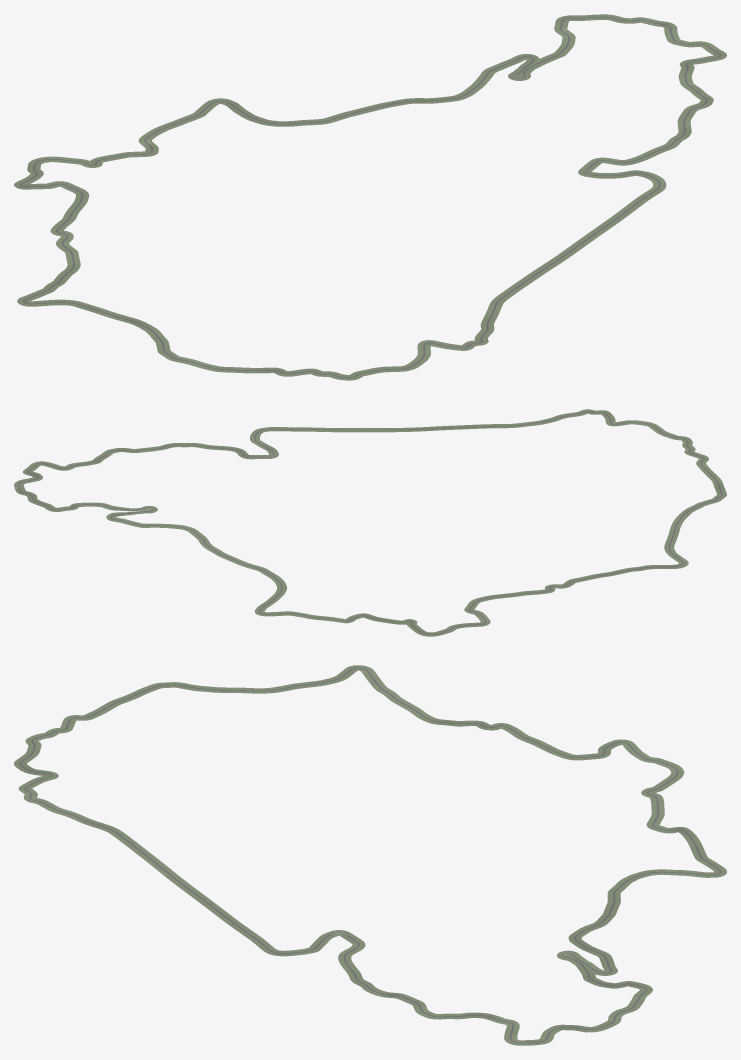
Rendered from Nordschleife_Banked_Drive_v04.glb.
The picture shows the model from 3 angles, top to bottom: view 1: azimuth 30°, elevation 25°; view 2: azimuth 150°, elevation 25°; view 3: azimuth 270°, elevation 25°; orthographic projection. The views are drawn at different scales.
Parts seen in each view (by area): view 1: Collider_00, Collider_10, Collider_13, Collider_15, Collider_08, Collider_01, Collider_17, Collider_02, Collider_14, Collider_16, Collider_12, Collider_18 (+9 smaller); view 2: Collider_10, Collider_06, Collider_03, Collider_09, Collider_18, Collider_19, Collider_08, Collider_01, Collider_05, Collider_04, Collider_17, Collider_00 (+9 smaller); view 3: Collider_04, Collider_07, Collider_14, Collider_13, Collider_06, Collider_02, Collider_19, Collider_05, Collider_15, Collider_16, Collider_18, Collider_17 (+9 smaller).
Part boxes in pixels (x1=…): Collider_00: x1=357, y1=340, x2=471, y2=376; Collider_10: x1=326, y1=92, x2=470, y2=122; Collider_13: x1=462, y1=14, x2=677, y2=347; Collider_15: x1=677, y1=74, x2=713, y2=135; Collider_08: x1=138, y1=99, x2=219, y2=155; Collider_01: x1=227, y1=367, x2=362, y2=380; Collider_17: x1=578, y1=170, x2=666, y2=204; Collider_02: x1=136, y1=323, x2=228, y2=372; Collider_14: x1=665, y1=33, x2=726, y2=75; Collider_16: x1=579, y1=134, x2=689, y2=171; Collider_12: x1=508, y1=27, x2=575, y2=80; Collider_18: x1=557, y1=202, x2=641, y2=257; Collider_10: x1=182, y1=525, x2=260, y2=570; Collider_06: x1=439, y1=411, x2=602, y2=634; Collider_03: x1=664, y1=516, x2=688, y2=567; Collider_09: x1=254, y1=567, x2=286, y2=615; Collider_18: x1=301, y1=427, x2=412, y2=432; Collider_19: x1=412, y1=423, x2=524, y2=431; Collider_08: x1=261, y1=611, x2=365, y2=623; Collider_01: x1=674, y1=436, x2=719, y2=479; Collider_05: x1=480, y1=579, x2=576, y2=601; Collider_04: x1=571, y1=564, x2=681, y2=582; Collider_17: x1=250, y1=427, x2=301, y2=458; Collider_00: x1=601, y1=410, x2=677, y2=439; Collider_04: x1=361, y1=667, x2=457, y2=725; Collider_07: x1=641, y1=762, x2=684, y2=825; Collider_14: x1=484, y1=1014, x2=574, y2=1045; Collider_13: x1=23, y1=788, x2=652, y2=1032; Collider_06: x1=21, y1=739, x2=669, y2=790; Collider_02: x1=110, y1=682, x2=245, y2=704; Collider_19: x1=98, y1=824, x2=184, y2=883; Collider_05: x1=453, y1=720, x2=568, y2=757; Collider_15: x1=369, y1=989, x2=491, y2=1019; Collider_16: x1=338, y1=932, x2=377, y2=992; Collider_18: x1=174, y1=881, x2=256, y2=936; Collider_17: x1=246, y1=930, x2=348, y2=956.
Size of the model in its own units: 6209 by 293 by 4906.
